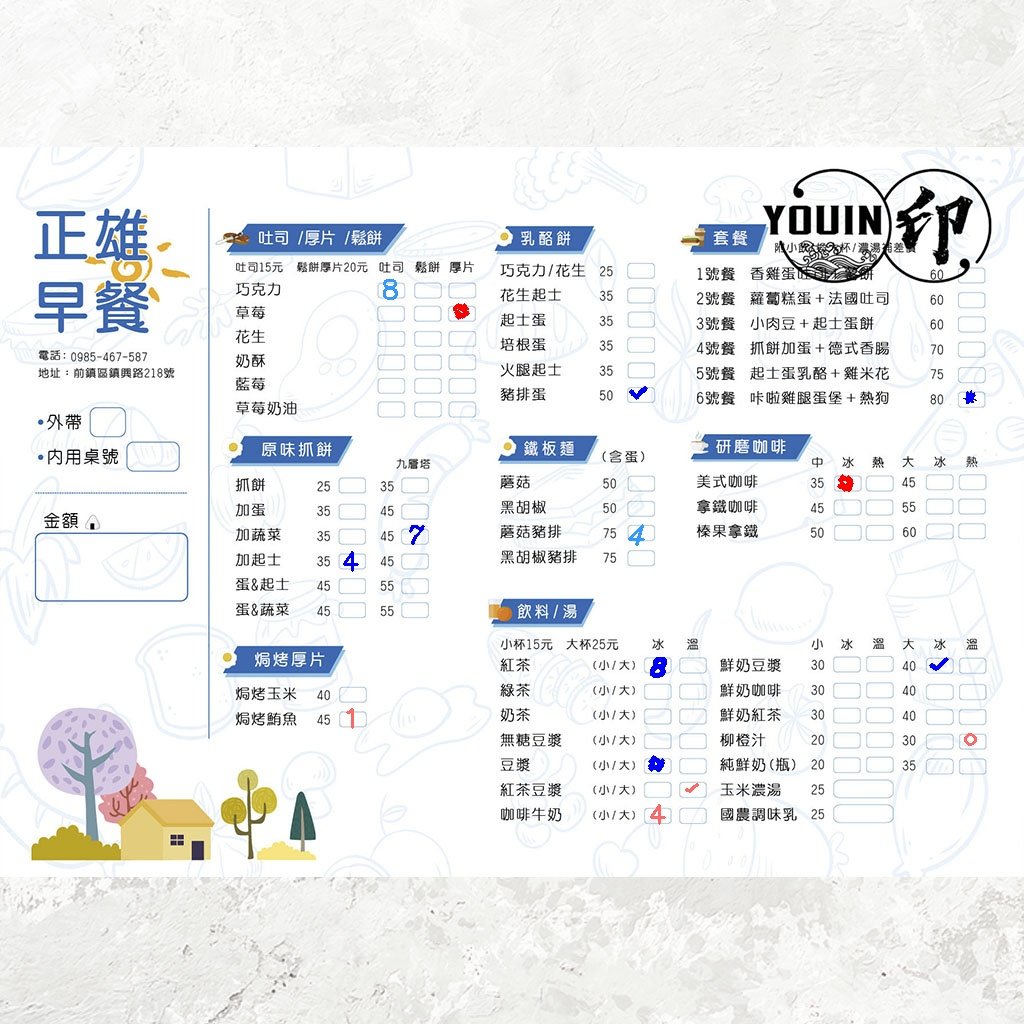marked_circle: (958, 391, 984, 405)
marked_hollow: (643, 757, 669, 771), (448, 305, 474, 319), (833, 476, 859, 490), (957, 732, 983, 746)
marked_number_1: (338, 711, 364, 725)
marked_number_4: (644, 807, 670, 821), (337, 554, 363, 568), (625, 526, 651, 540)
marked_number_7: (401, 528, 427, 542)
marked_number_8: (377, 282, 403, 296), (644, 657, 670, 671)
marked_tick: (926, 657, 952, 671), (626, 385, 652, 399), (679, 780, 705, 794)
